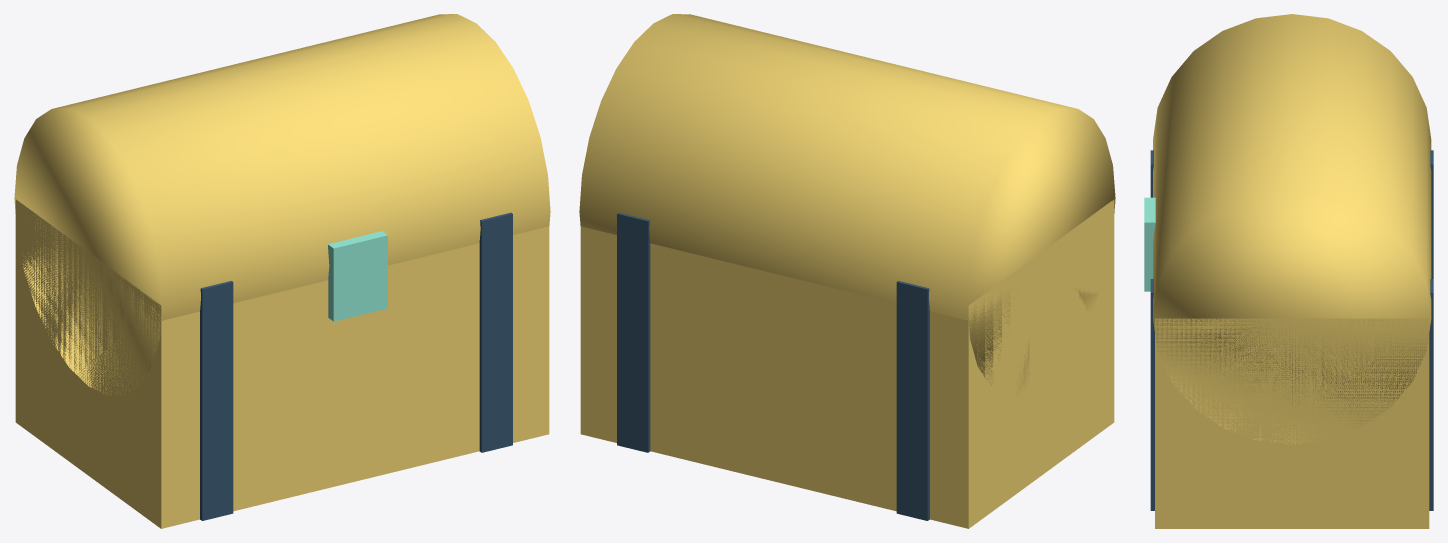
Rendered from chest_legend.glb.
The picture shows the model from 3 angles, left to right: view 1: azimuth 30°, elevation 25°; view 2: azimuth 150°, elevation 25°; view 3: azimuth 270°, elevation 25°; orthographic projection. The views are drawn at different scales.
Size of the model in its own units: 1 by 0.88 by 0.685.
